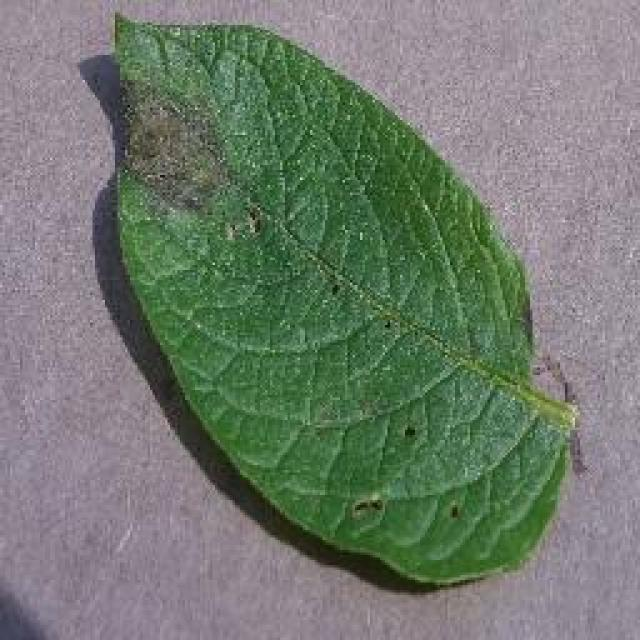late_blight: (105, 10, 580, 590)
